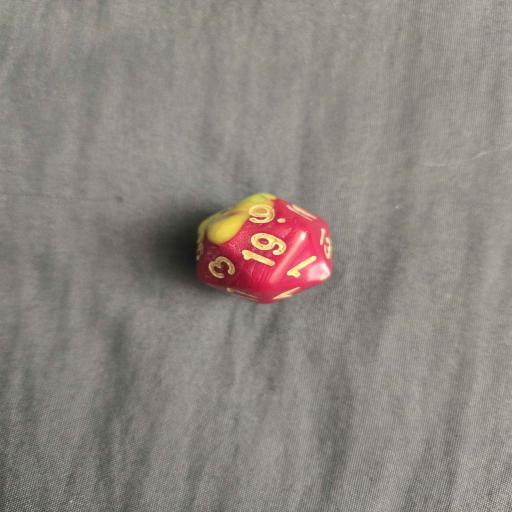twenty sided dice: (193, 193, 333, 304)
